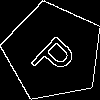P: (28, 27, 85, 83)
